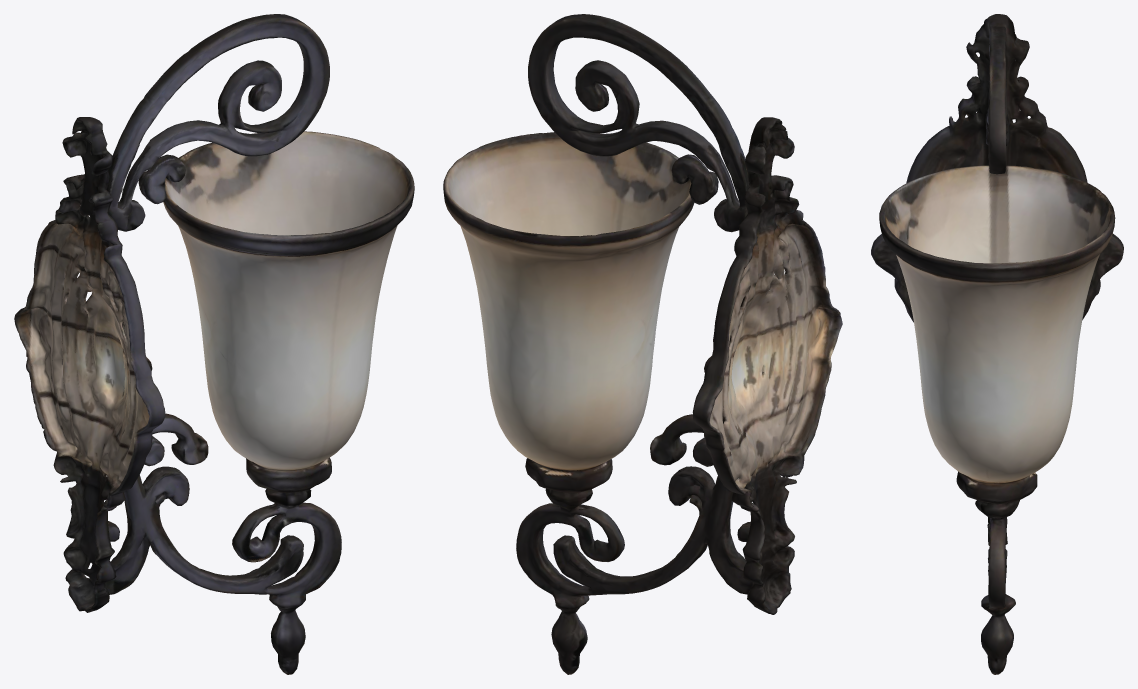
The model's file is Lampe_Murale2.glb.
The picture shows the model from 3 angles, left to right: view 1: azimuth 30°, elevation 25°; view 2: azimuth 150°, elevation 25°; view 3: azimuth 270°, elevation 25°; orthographic projection. The views are drawn at different scales.
Parts seen in each view (by area): view 1: Mesh1; view 2: Mesh1; view 3: Mesh1.
Part boxes in pixels (bbox=[...]): Mesh1: bbox=[14, 14, 414, 674]; Mesh1: bbox=[443, 14, 842, 674]; Mesh1: bbox=[871, 14, 1123, 674].
Size of the model in its own units: 1.01 by 2 by 0.7393.
1 material, 1 textured.
